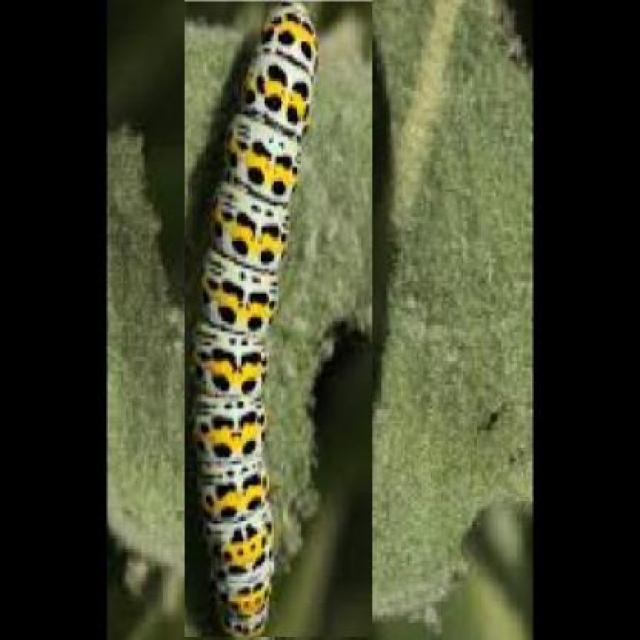Plaga: (184, 1, 375, 639)
